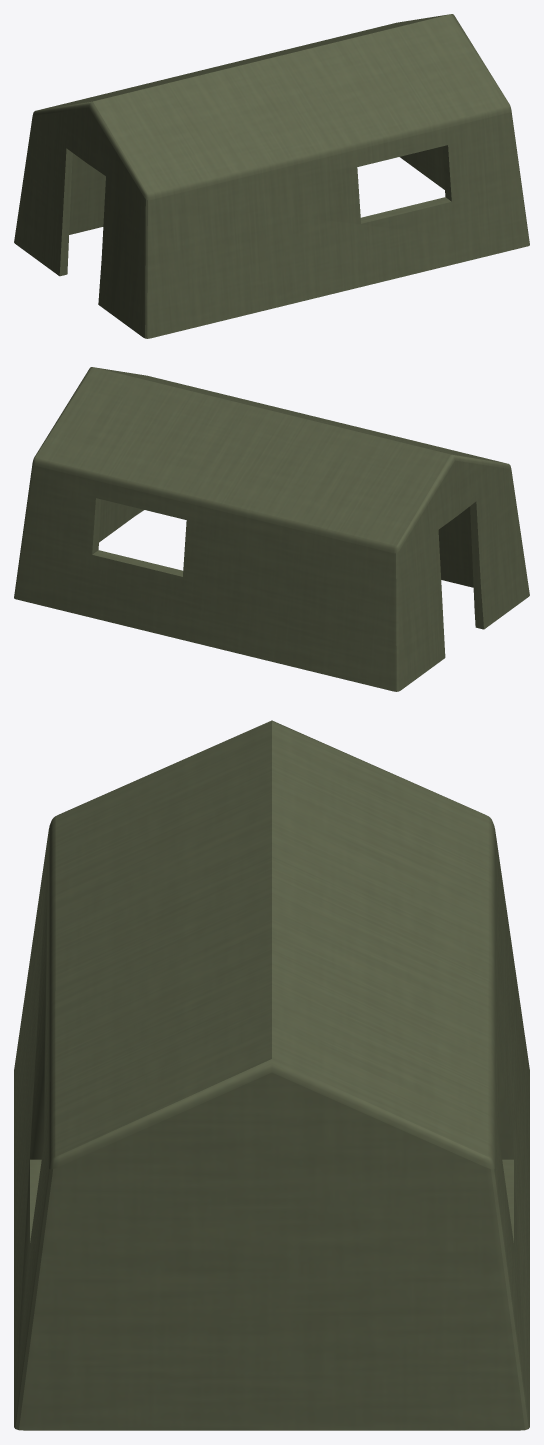
Rendered from tent.glb.
3 views of the same model, one above another, from view 1: azimuth 30°, elevation 25°; view 2: azimuth 150°, elevation 25°; view 3: azimuth 270°, elevation 25° (orthographic). The views are drawn at different scales.
Parts seen in each view (by area): view 1: Box001_Main Tent_0; view 2: Box001_Main Tent_0; view 3: Box001_Main Tent_0.
Boxes of the visible parts, left/top/right/bottom form: Box001_Main Tent_0: left=14, top=14, right=529, bottom=338; Box001_Main Tent_0: left=14, top=367, right=529, bottom=691; Box001_Main Tent_0: left=14, top=720, right=529, bottom=1430.
Size of the model in its own units: 30 by 13.81 by 18.
Materials: 1 (1 with a texture image).
